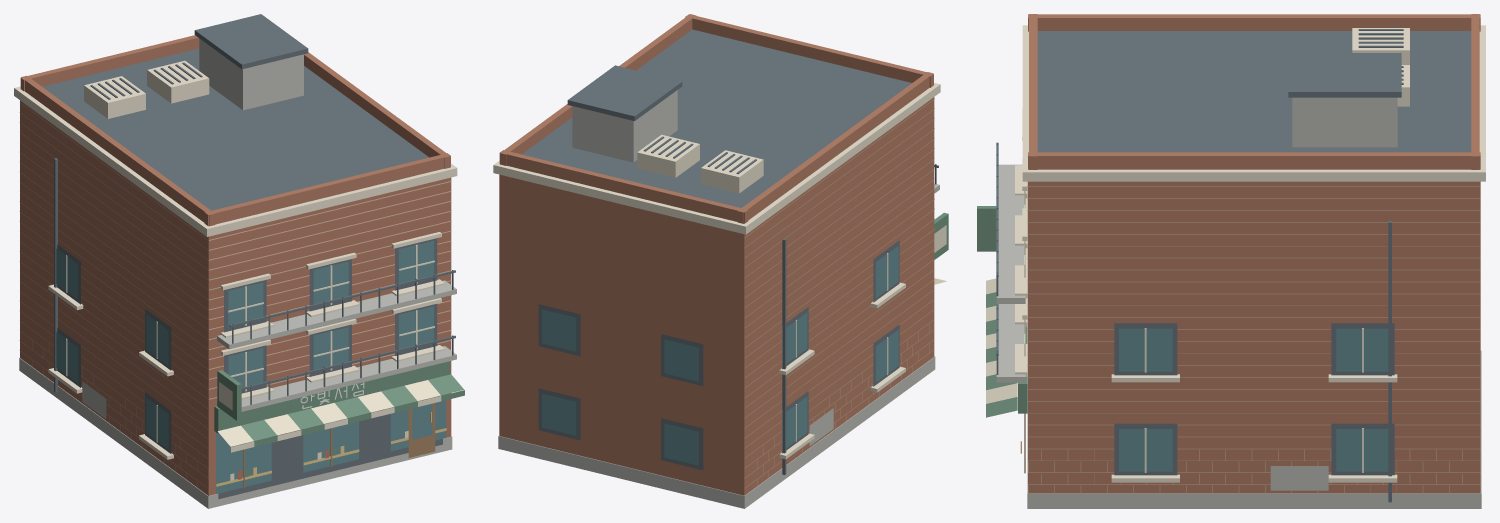
Rendered from q01-book.glb.
3 views of the same model, side by side, from view 1: azimuth 30°, elevation 25°; view 2: azimuth 150°, elevation 25°; view 3: azimuth 270°, elevation 25° (orthographic). The views are drawn at different scales.
Bounding box in the file's own units: 6.74 × 8.31 × 9.67.
